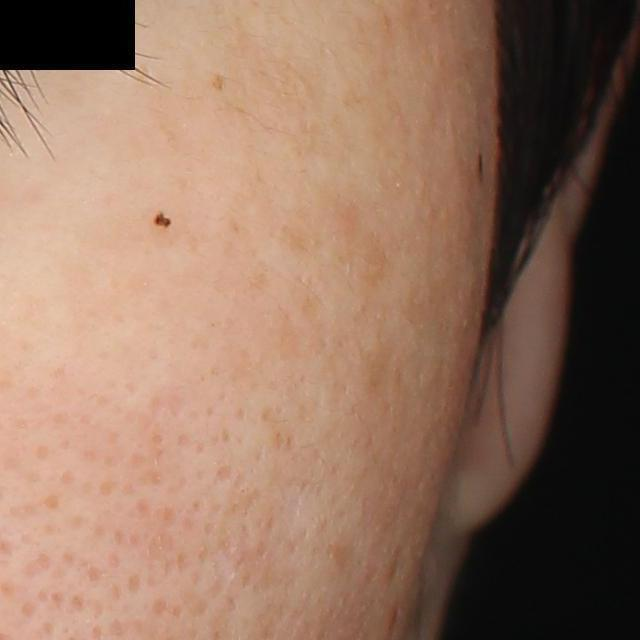melasma: (351, 335, 400, 392), (272, 217, 327, 260), (357, 230, 390, 293), (211, 75, 227, 92)
nevus: (153, 209, 172, 228)
